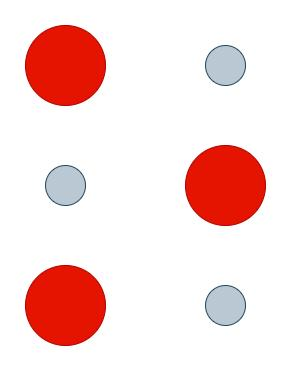O: (19, 20, 271, 353)
